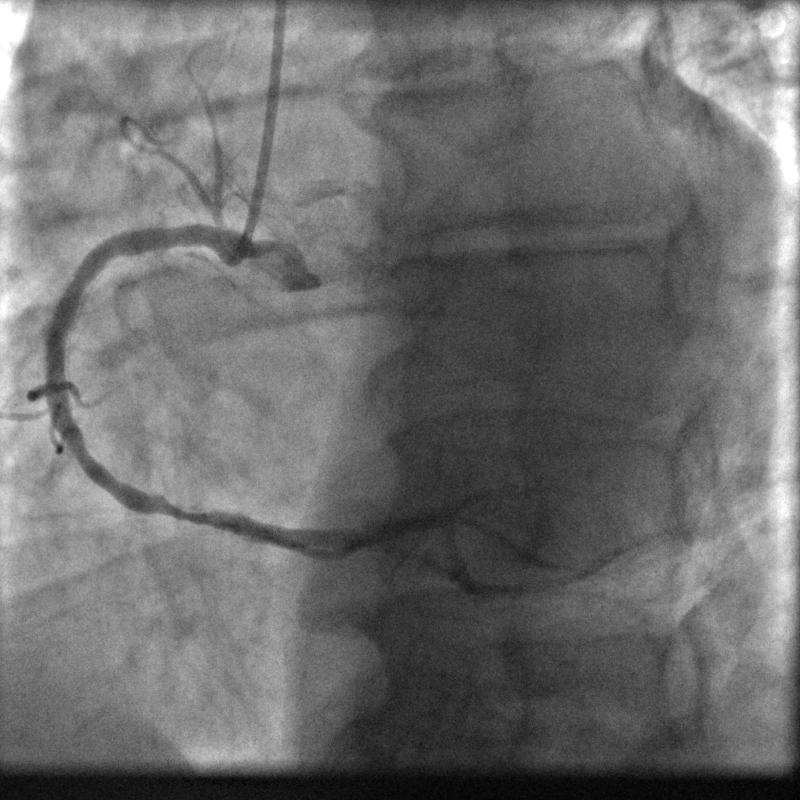Stenosis: (153, 491, 223, 536)
